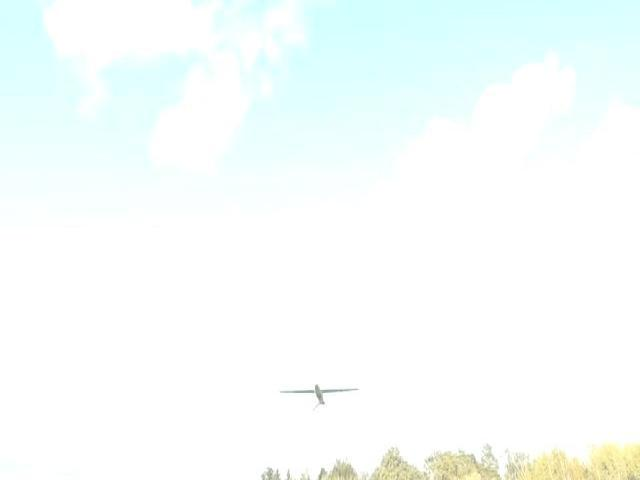iha: (276, 380, 370, 413)
